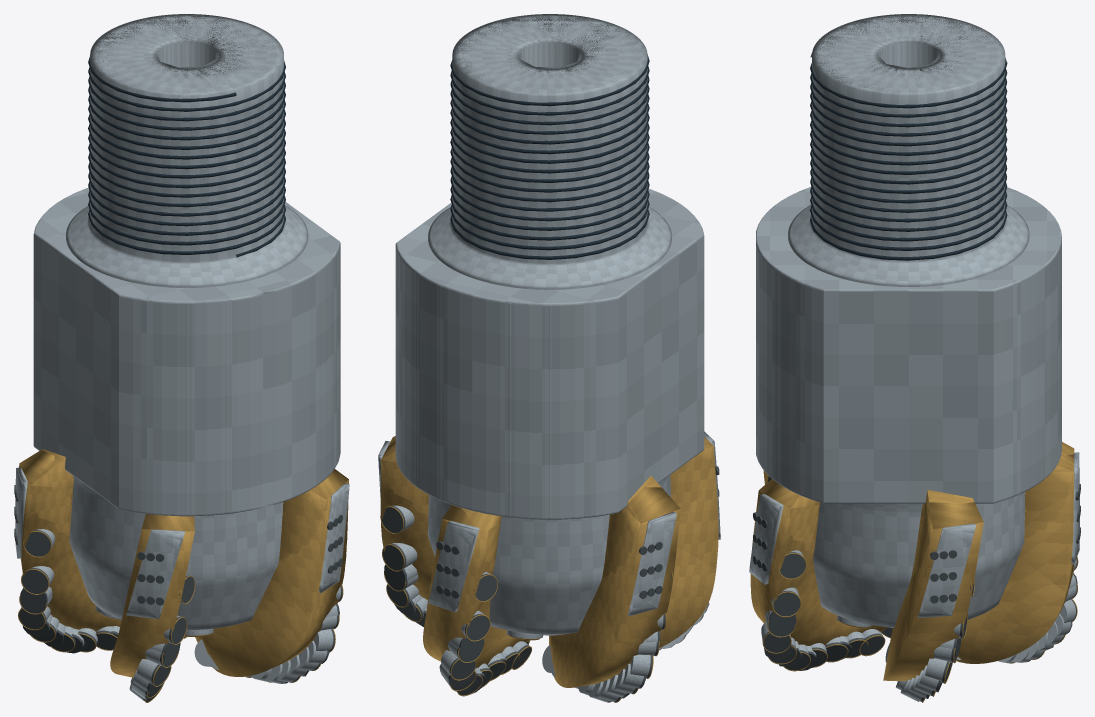
Rendered from pdc-bit.glb.
3 renders of one model, left to right at view 1: azimuth 30°, elevation 25°; view 2: azimuth 150°, elevation 25°; view 3: azimuth 270°, elevation 25°, orthographic.
Parts seen in each view (by area): view 1: bit-body (×2), crown (×3), blades (×3), uphole-connection, cutters (×6), gauge-pads (×3), gauge-wear-buttons; view 2: bit-body (×2), crown (×3), blades (×3), uphole-connection, cutters (×5), gauge-pads (×3), gauge-wear-buttons; view 3: bit-body (×2), crown (×3), blades (×3), uphole-connection, cutters (×5), gauge-pads (×3), gauge-wear-buttons.
Boxes of the visible parts, box(x1,y1,x2,y2) form: bit-body (×2): box(33, 187, 340, 516); crown (×3): box(66, 14, 308, 630); blades (×3): box(19, 449, 348, 677); uphole-connection: box(88, 57, 285, 257); cutters (×6): box(18, 529, 346, 702); gauge-pads (×3): box(15, 467, 349, 619); gauge-wear-buttons: box(14, 485, 342, 605); bit-body (×2): box(395, 189, 704, 519); crown (×3): box(428, 14, 671, 635); blades (×3): box(380, 436, 718, 687); uphole-connection: box(450, 55, 649, 259); cutters (×5): box(380, 505, 709, 702); gauge-pads (×3): box(378, 431, 720, 616); gauge-wear-buttons: box(436, 466, 719, 598); bit-body (×2): box(756, 187, 1061, 503); crown (×3): box(788, 14, 1029, 627); blades (×3): box(750, 442, 1074, 681); uphole-connection: box(810, 52, 1007, 260); cutters (×5): box(761, 476, 1078, 702); gauge-pads (×3): box(749, 452, 1079, 617); gauge-wear-buttons: box(753, 484, 1080, 603).
Size of the model in its own units: 0.1523 by 0.2971 by 0.1496.
Materials: 4 (4 with a texture image).
